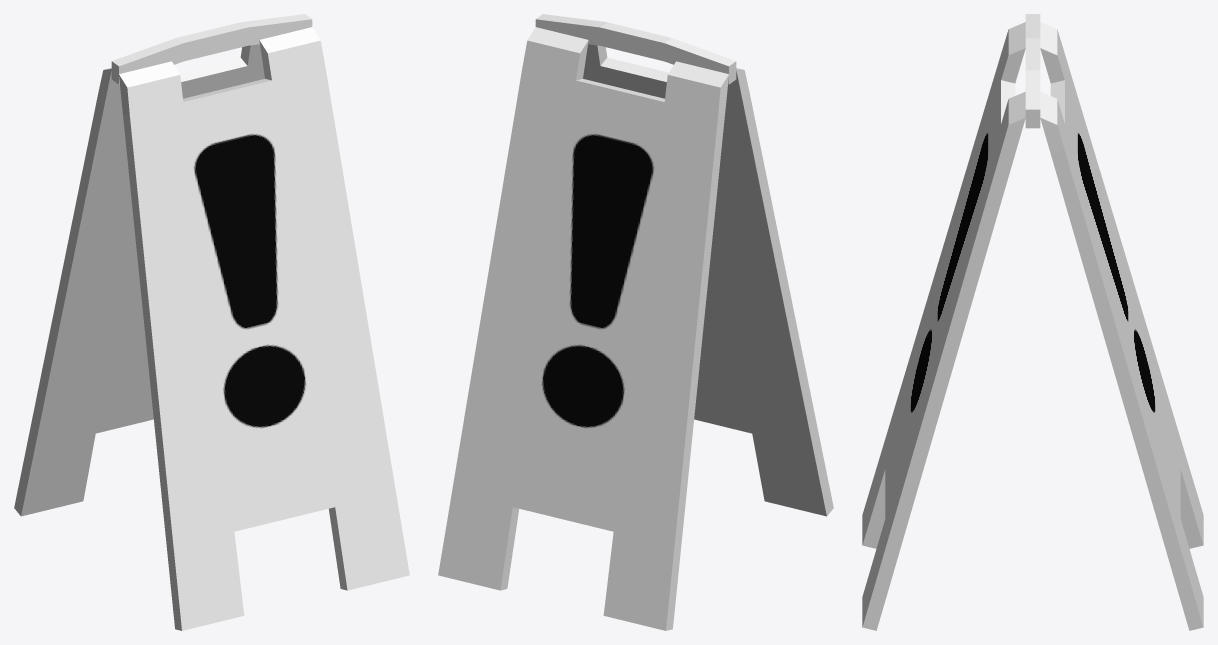
File: WetFloorSign.fbx
3 views of the same model, side by side, from view 1: azimuth 30°, elevation 25°; view 2: azimuth 150°, elevation 25°; view 3: azimuth 270°, elevation 25° (orthographic).
Parts seen in each view (by area): view 1: Plane; view 2: Plane; view 3: Plane.
Boxes of the visible parts, x1=… form: Plane: x1=14, y1=14, x2=409, y2=630; Plane: x1=438, y1=14, x2=833, y2=630; Plane: x1=862, y1=14, x2=1203, y2=630.
Size of the model in its own units: 0.3335 by 0.7167 by 0.4258.
